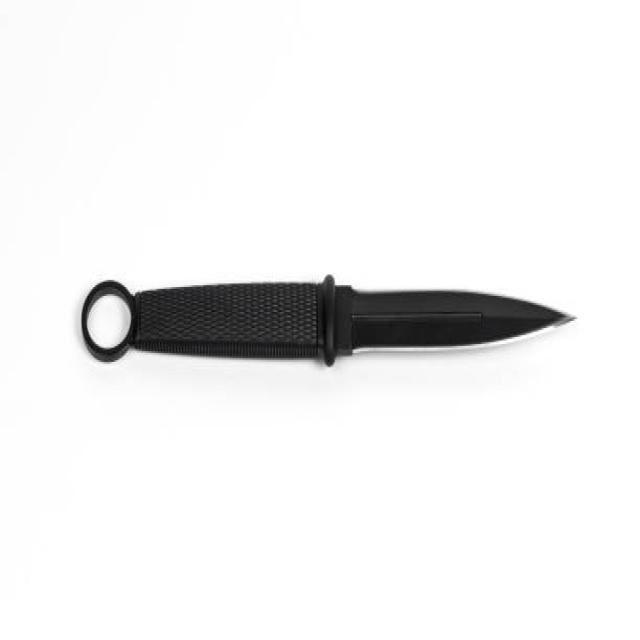knife: (77, 270, 580, 376)
